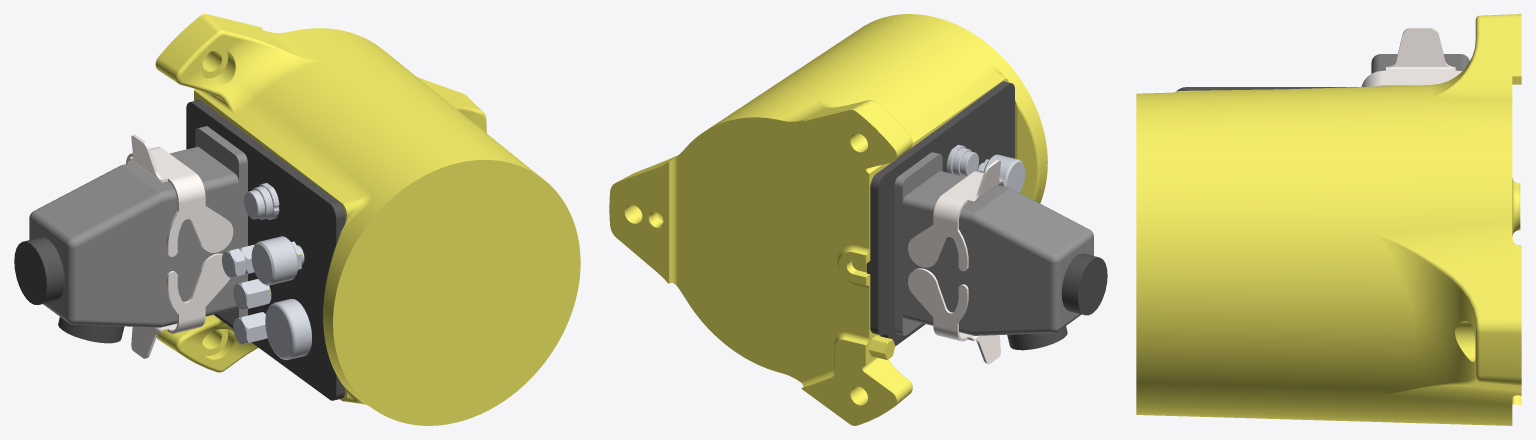
3 views of the same model, side by side, from view 1: azimuth 30°, elevation 25°; view 2: azimuth 150°, elevation 25°; view 3: azimuth 270°, elevation 25° (orthographic). The views are drawn at different scales.
Visible parts, largest first — view 1: J0-ORI.SLDPRT; view 2: J0-ORI.SLDPRT; view 3: J0-ORI.SLDPRT.
Part boxes in pixels (x1,y1,x2,y2): J0-ORI.SLDPRT: (14,14,580,425); J0-ORI.SLDPRT: (609,14,1107,425); J0-ORI.SLDPRT: (1136,14,1521,425).
Size of the model in its own units: 0.2745 by 0.1871 by 0.168.
